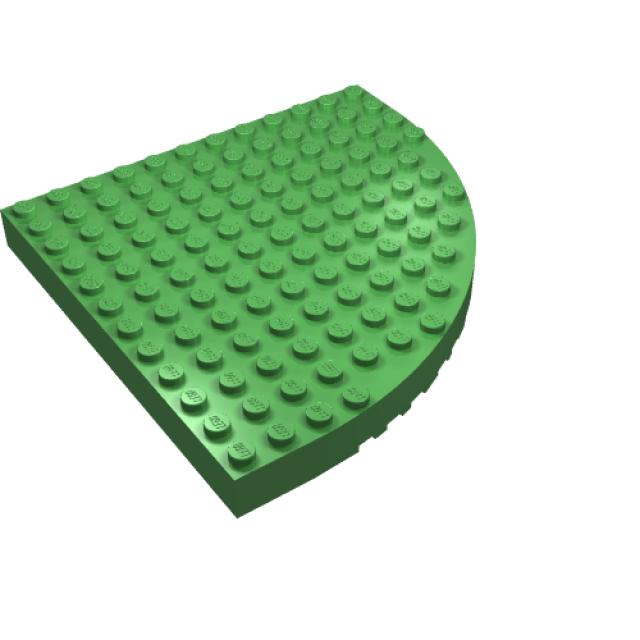Green_Large: (0, 84, 479, 521)
